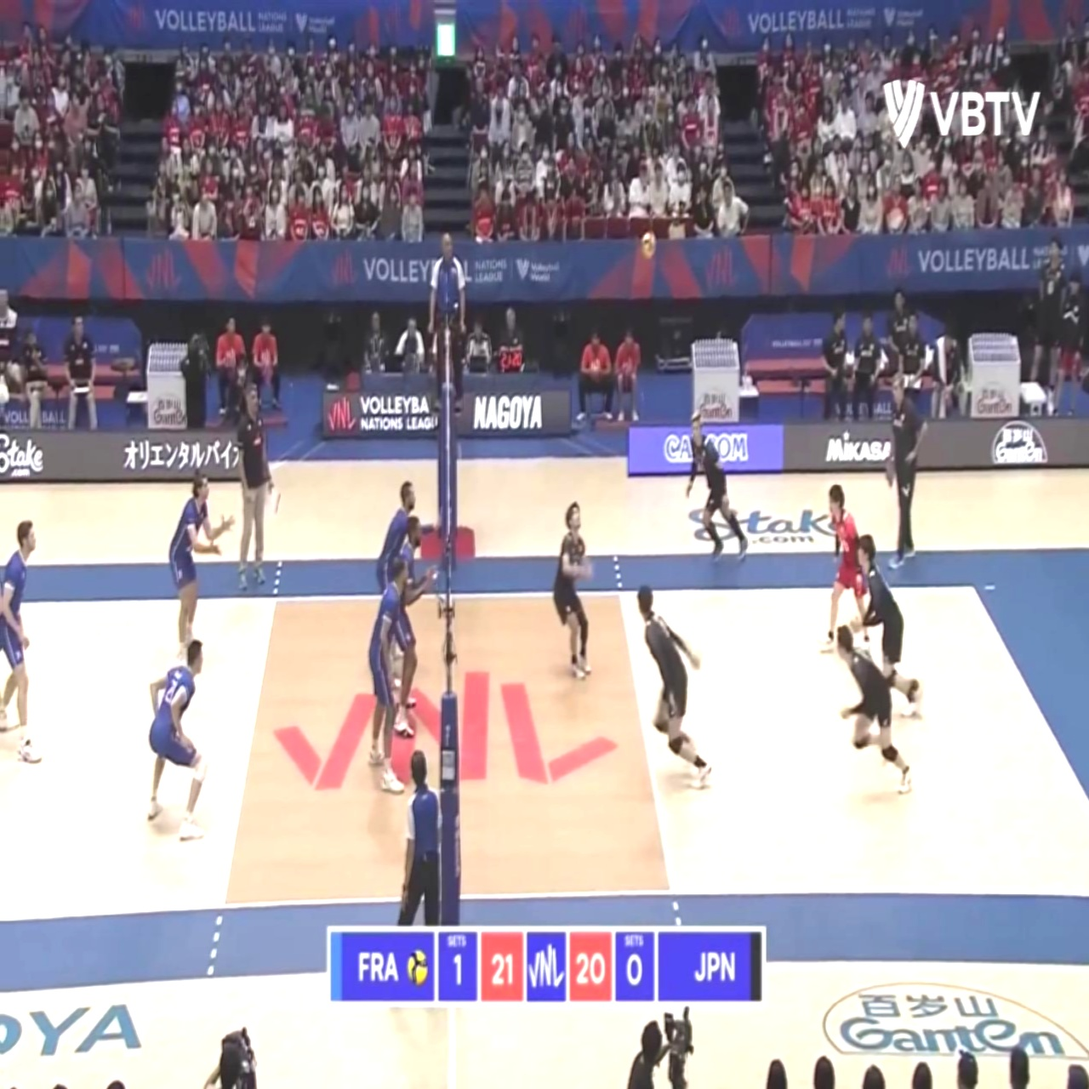ball: (640, 231, 655, 259)
